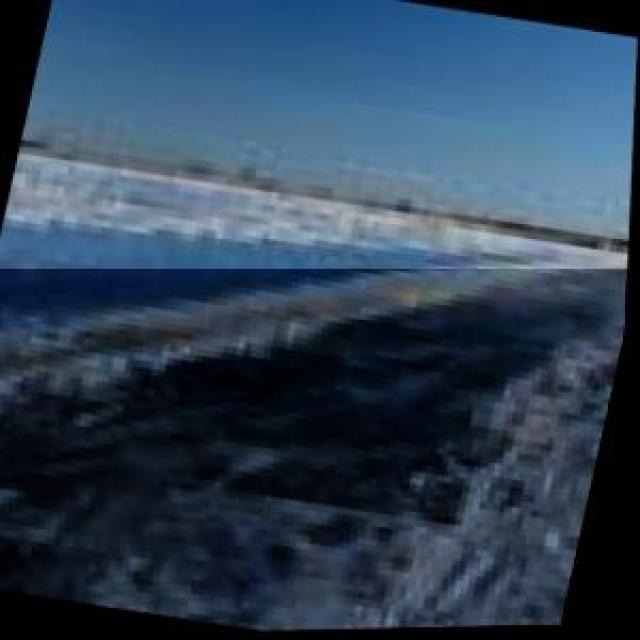ice-road: (0, 269, 629, 634)
